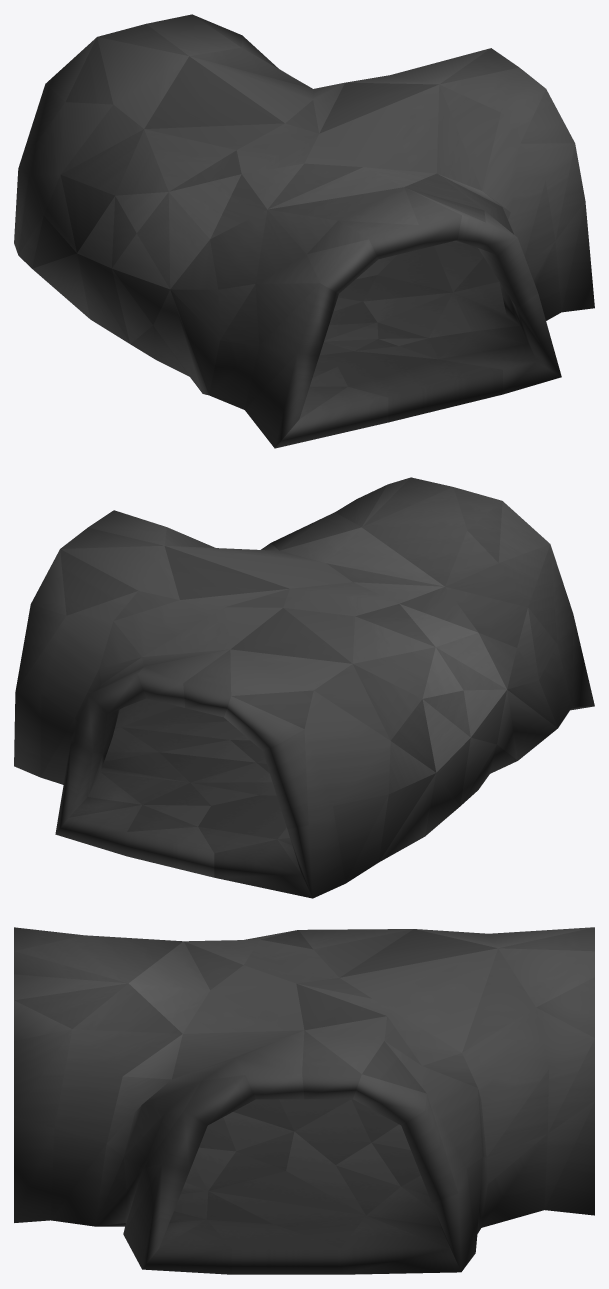
Rendered from GL-Cave-part-05.fbx.
The picture shows the model from 3 angles, top to bottom: view 1: azimuth 30°, elevation 25°; view 2: azimuth 150°, elevation 25°; view 3: azimuth 270°, elevation 25°; orthographic projection. The views are drawn at different scales.
Parts seen in each view (by area): view 1: GL-Cave-part-05; view 2: GL-Cave-part-05; view 3: GL-Cave-part-05.
Boxes of the visible parts, x1,y1,x2,y2 form: GL-Cave-part-05: (14,14,594,448); GL-Cave-part-05: (14,477,594,898); GL-Cave-part-05: (14,927,594,1274).
Bounding box in the file's own units: 5.04 × 2.32 × 6.
